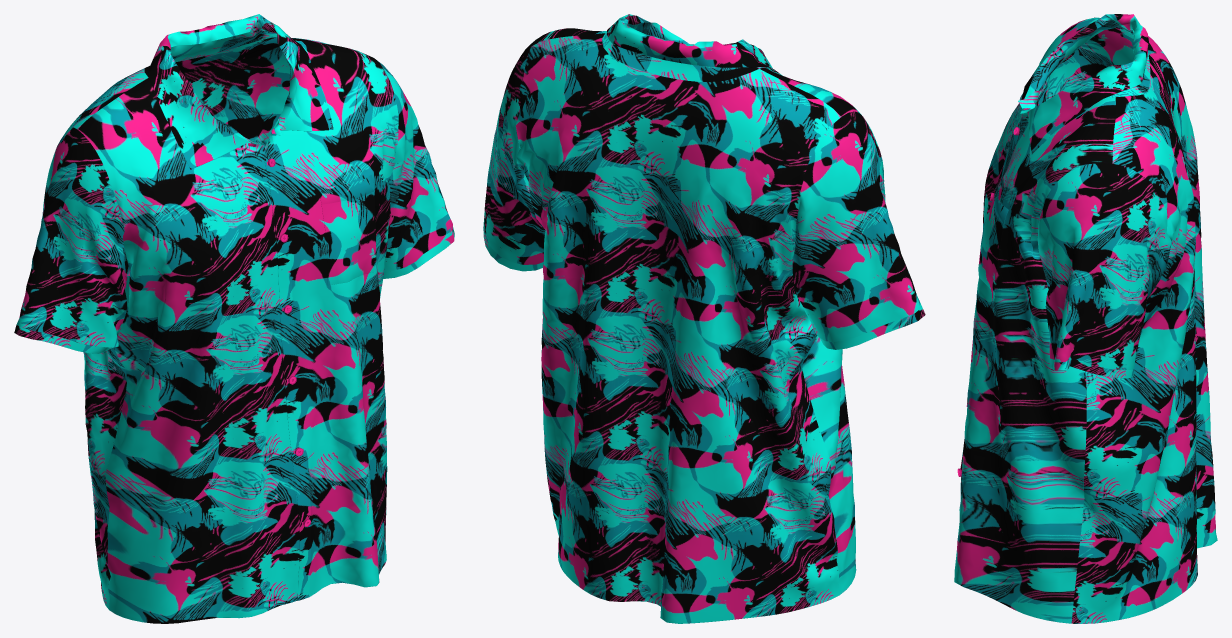
The model's file is miami-brushstroke.glb.
The picture shows the model from 3 angles, left to right: view 1: azimuth 30°, elevation 25°; view 2: azimuth 150°, elevation 25°; view 3: azimuth 270°, elevation 25°; orthographic projection. The views are drawn at different scales.
Parts seen in each view (by area): view 1: Object_6, Object_13, Object_3, Object_5, Object_12, Object_4, Object_11, Object_8, Object_7; view 2: Object_3, Object_13, Object_6, Object_12, Object_5, Object_8; view 3: Object_3, Object_6, Object_12, Object_5, Object_13, Object_11, Object_7, Object_4.
Part boxes in pixels (x1,y1,x2,y2): Object_6: (78, 40, 398, 623); Object_13: (16, 127, 128, 347); Object_3: (67, 37, 331, 609); Object_5: (144, 14, 333, 169); Object_12: (375, 59, 452, 271); Object_4: (245, 124, 311, 600); Object_11: (319, 175, 376, 285); Object_8: (14, 325, 111, 353); Object_7: (383, 227, 454, 278); Object_3: (515, 33, 840, 623); Object_13: (792, 111, 921, 342); Object_6: (532, 28, 861, 594); Object_12: (483, 40, 544, 264); Object_5: (602, 14, 782, 81); Object_8: (820, 307, 925, 349); Object_3: (1071, 30, 1217, 623); Object_6: (954, 17, 1116, 623); Object_12: (1037, 163, 1171, 370); Object_5: (1024, 14, 1150, 154); Object_13: (1037, 28, 1133, 104); Object_11: (978, 180, 1008, 298); Object_7: (1050, 358, 1134, 378); Object_4: (960, 96, 1035, 479).
Size of the model in its own units: 0.589 by 0.7019 by 0.3166.
Materials: 2 (1 with a texture image).
